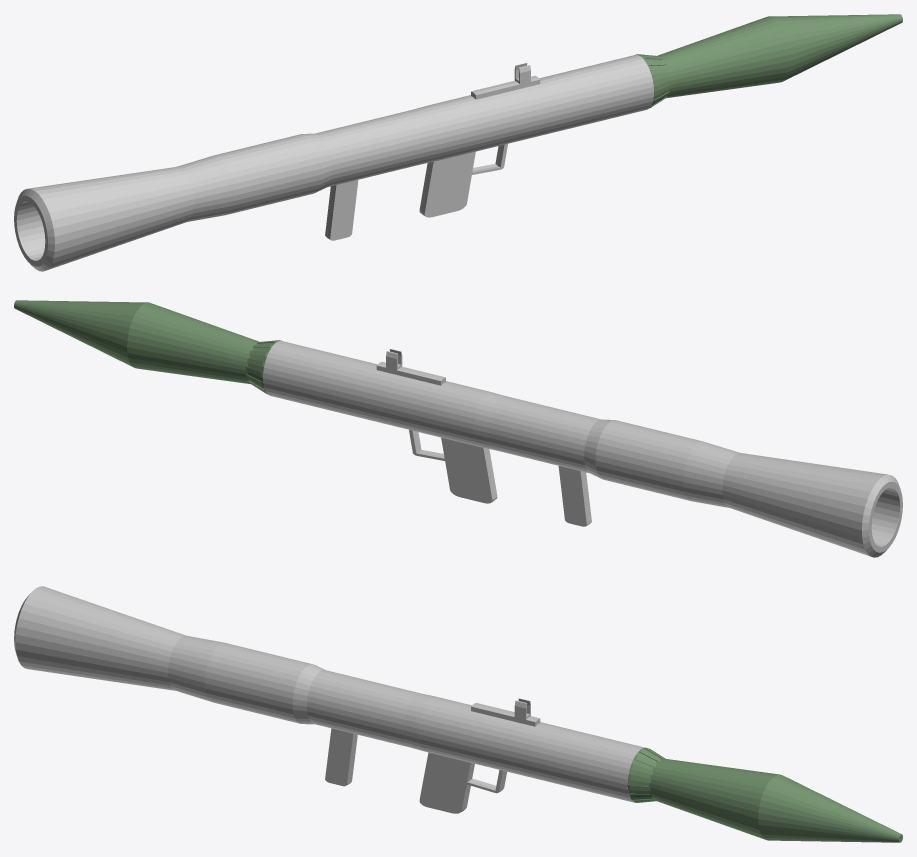
Rendered from rocketlauncher2.fbx.
The picture shows the model from 3 angles, top to bottom: view 1: azimuth 30°, elevation 25°; view 2: azimuth 150°, elevation 25°; view 3: azimuth 330°, elevation 25°; orthographic projection.
Visible parts, largest first — view 1: Launcher, Rocket; view 2: Launcher, Rocket; view 3: Launcher, Rocket.
Boxes of the visible parts, bbox=[...] form: Launcher: bbox=[14, 55, 653, 271]; Rocket: bbox=[636, 14, 902, 107]; Launcher: bbox=[263, 341, 902, 557]; Rocket: bbox=[14, 300, 280, 393]; Launcher: bbox=[14, 586, 644, 813]; Rocket: bbox=[627, 747, 902, 842].
Bounding box in the file's own units: 590 × 82.78 × 46.67.
